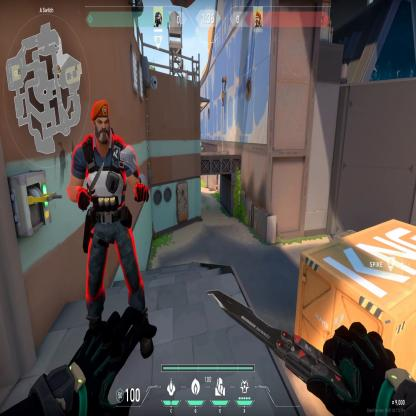enemy: (70, 96, 150, 300)
